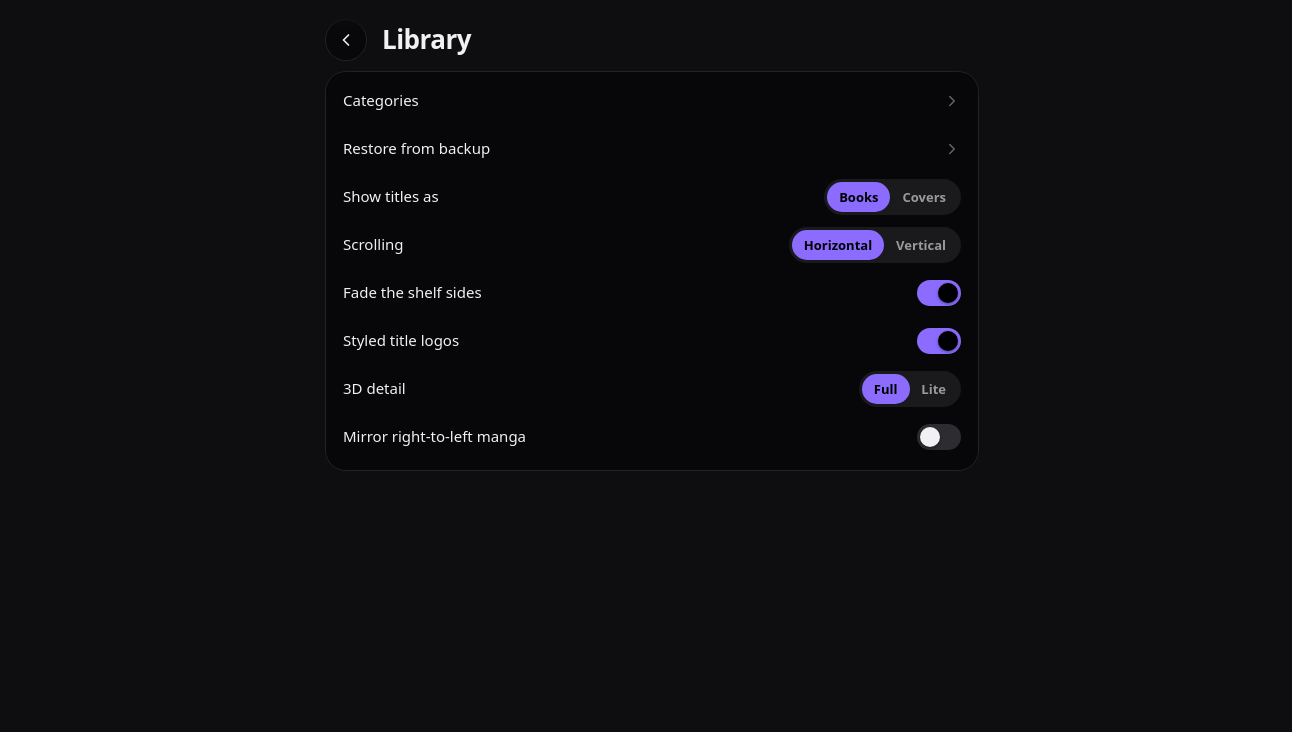
it: Library › goes back to Settings
Click the button named "Back" at (346, 40), box [326,20,366,60]
(page scrolled)
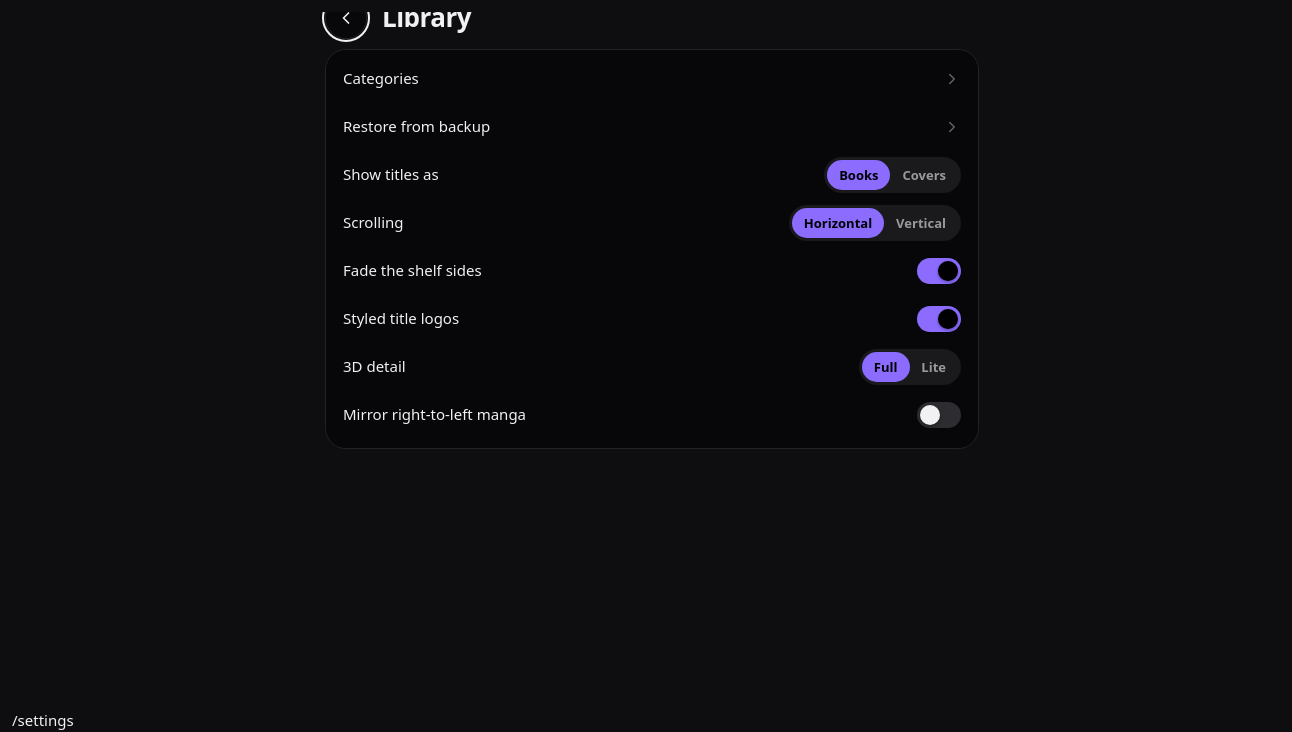
Result: the text with test id "location" reads "/settings" at [12,710,74,730]
